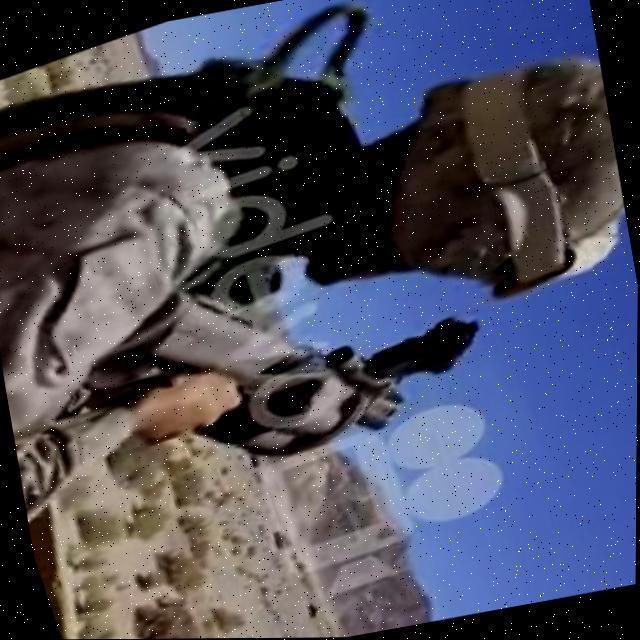rocket: (65, 202, 510, 521)
